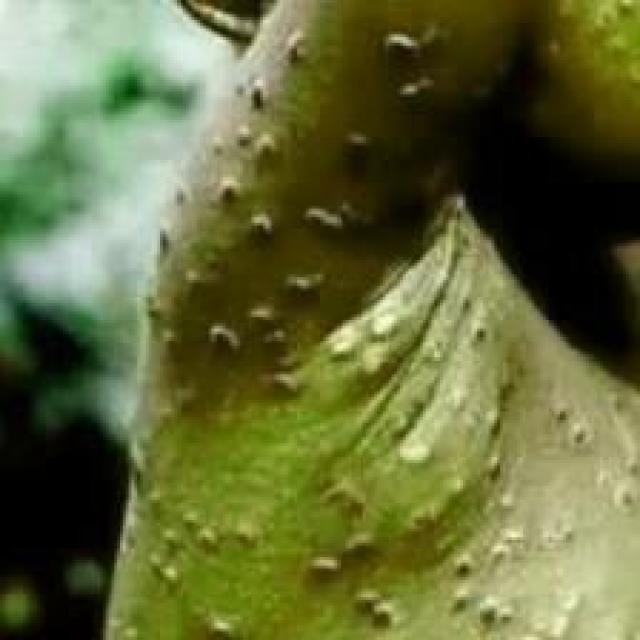monkeypox: (122, 22, 640, 640)
